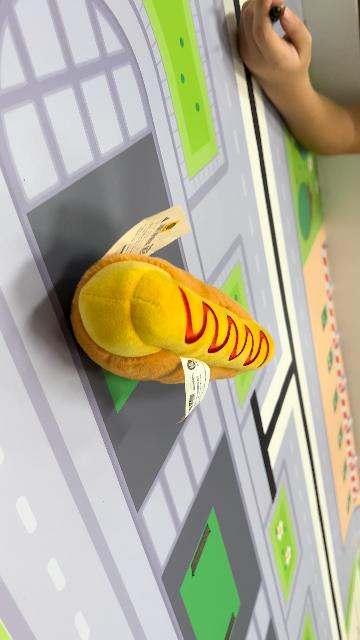hotdog: (70, 252, 276, 386)
